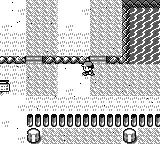captura: (130, 8, 160, 64)
leer: (1, 80, 10, 95)
main: (81, 61, 94, 76)
mo: (122, 0, 160, 61)
no-caminable: (27, 113, 160, 127), (122, 128, 138, 143), (26, 128, 42, 143)
salto: (42, 56, 90, 64), (1, 56, 26, 64), (106, 56, 122, 64)
